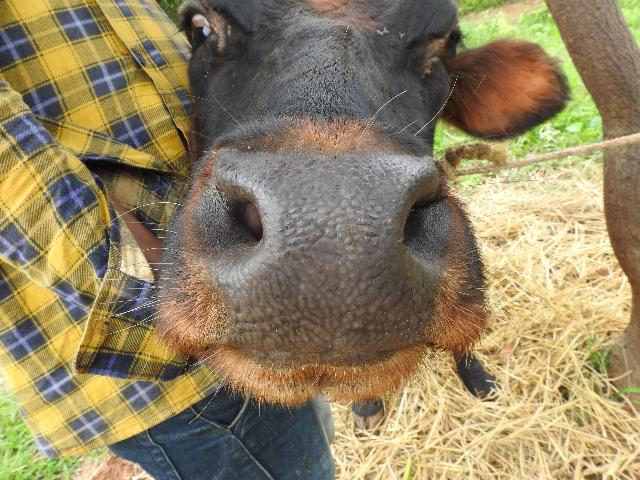Muzzle: (232, 162, 406, 344)
